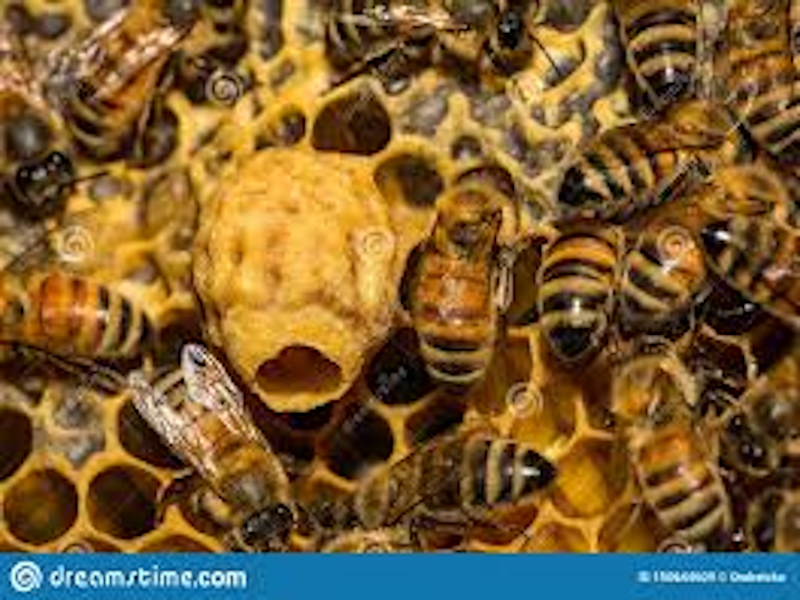abeja: (124, 352, 316, 544), (597, 317, 736, 566), (391, 170, 535, 406), (336, 420, 581, 551)
